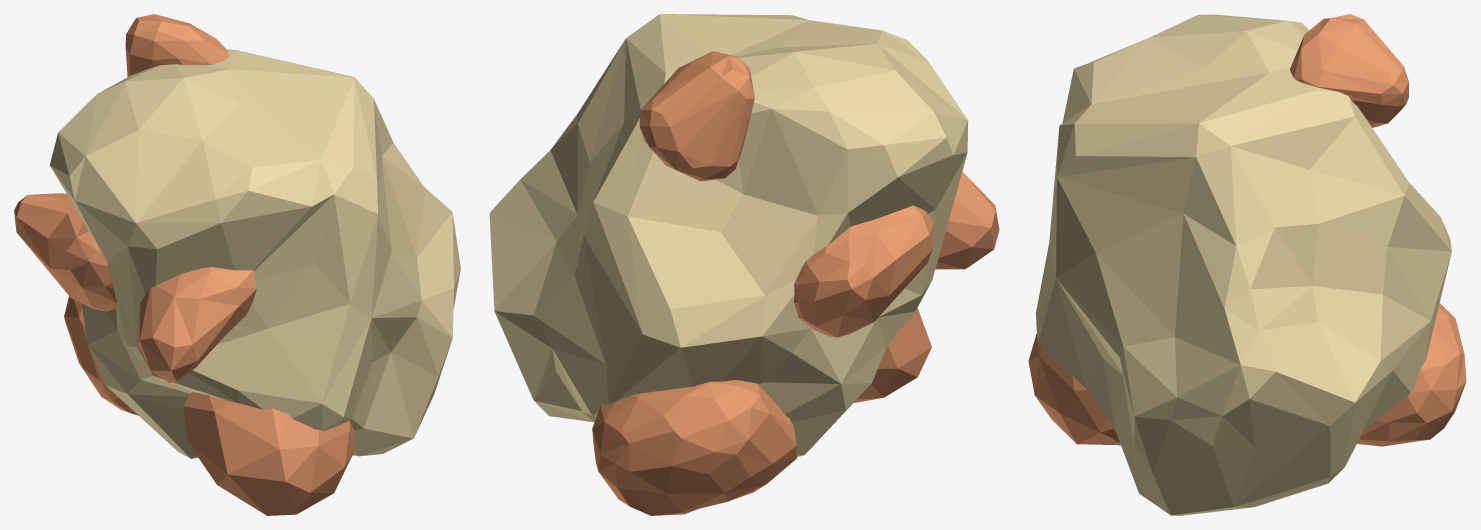
File: StoneOre (56).fbx
3 renders of one model, left to right at view 1: azimuth 30°, elevation 25°; view 2: azimuth 150°, elevation 25°; view 3: azimuth 270°, elevation 25°, orthographic. The views are drawn at different scales.
Parts seen in each view (by area): view 1: Asteroid343; view 2: Asteroid343; view 3: Asteroid343.
Boxes of the visible parts, bbox=[...] form: Asteroid343: bbox=[14, 14, 460, 515]; Asteroid343: bbox=[489, 14, 999, 515]; Asteroid343: bbox=[1028, 14, 1466, 515].
Size of the model in its own units: 233 by 230 by 215.
